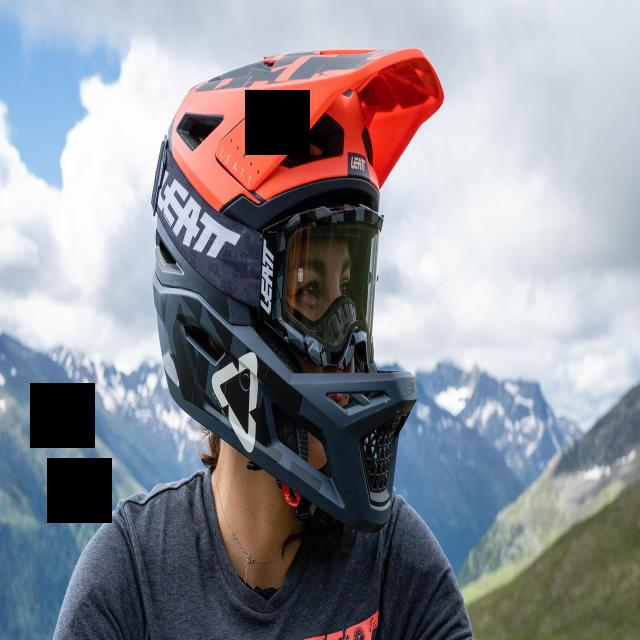Helmet: (151, 49, 444, 531)
